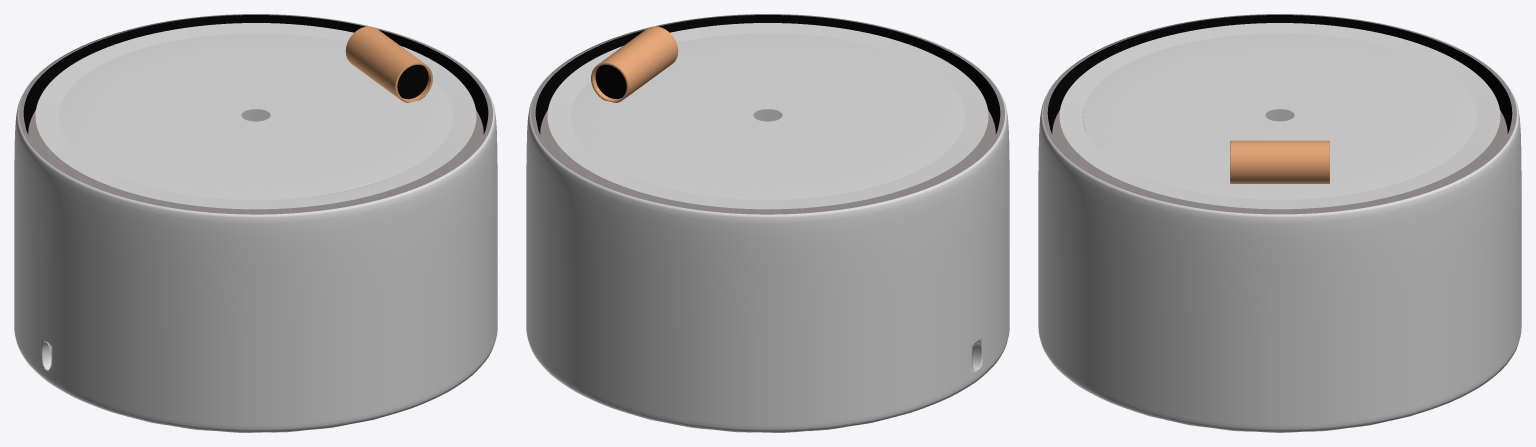
The model's file is air.glb.
3 renders of one model, left to right at view 1: azimuth 30°, elevation 25°; view 2: azimuth 150°, elevation 25°; view 3: azimuth 270°, elevation 25°, orthographic.
Visible parts, largest first — view 1: Cylinder, Cylinder.006, Cylinder.001, Cylinder.007, Cylinder.003, Cylinder.005; view 2: Cylinder, Cylinder.006, Cylinder.001, Cylinder.007, Cylinder.003, Cylinder.005; view 3: Cylinder, Cylinder.006, Cylinder.001, Cylinder.007, Cylinder.003.
Boxes of the visible parts, x1,y1,x2,y2 form: Cylinder: (14,14,497,432); Cylinder.006: (35,23,476,209); Cylinder.001: (23,15,488,134); Cylinder.007: (19,29,492,214); Cylinder.003: (345,26,432,102); Cylinder.005: (397,65,428,99); Cylinder: (526,14,1009,432); Cylinder.006: (547,23,988,209); Cylinder.001: (535,15,1000,134); Cylinder.007: (531,29,1004,214); Cylinder.003: (591,26,678,102); Cylinder.005: (595,65,626,98); Cylinder: (1038,14,1521,432); Cylinder.006: (1059,23,1500,209); Cylinder.001: (1047,15,1512,133); Cylinder.007: (1043,28,1516,214); Cylinder.003: (1230,140,1329,183).
Size of the model in its own units: 5.51 by 3.31 by 5.51.
